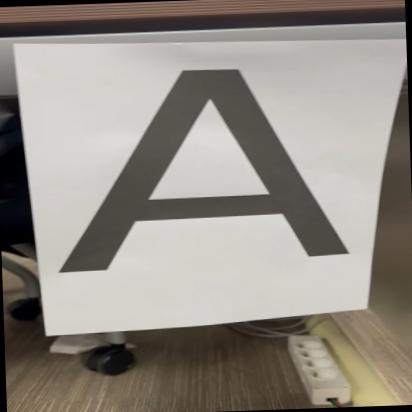seat: (41, 53, 374, 282)
